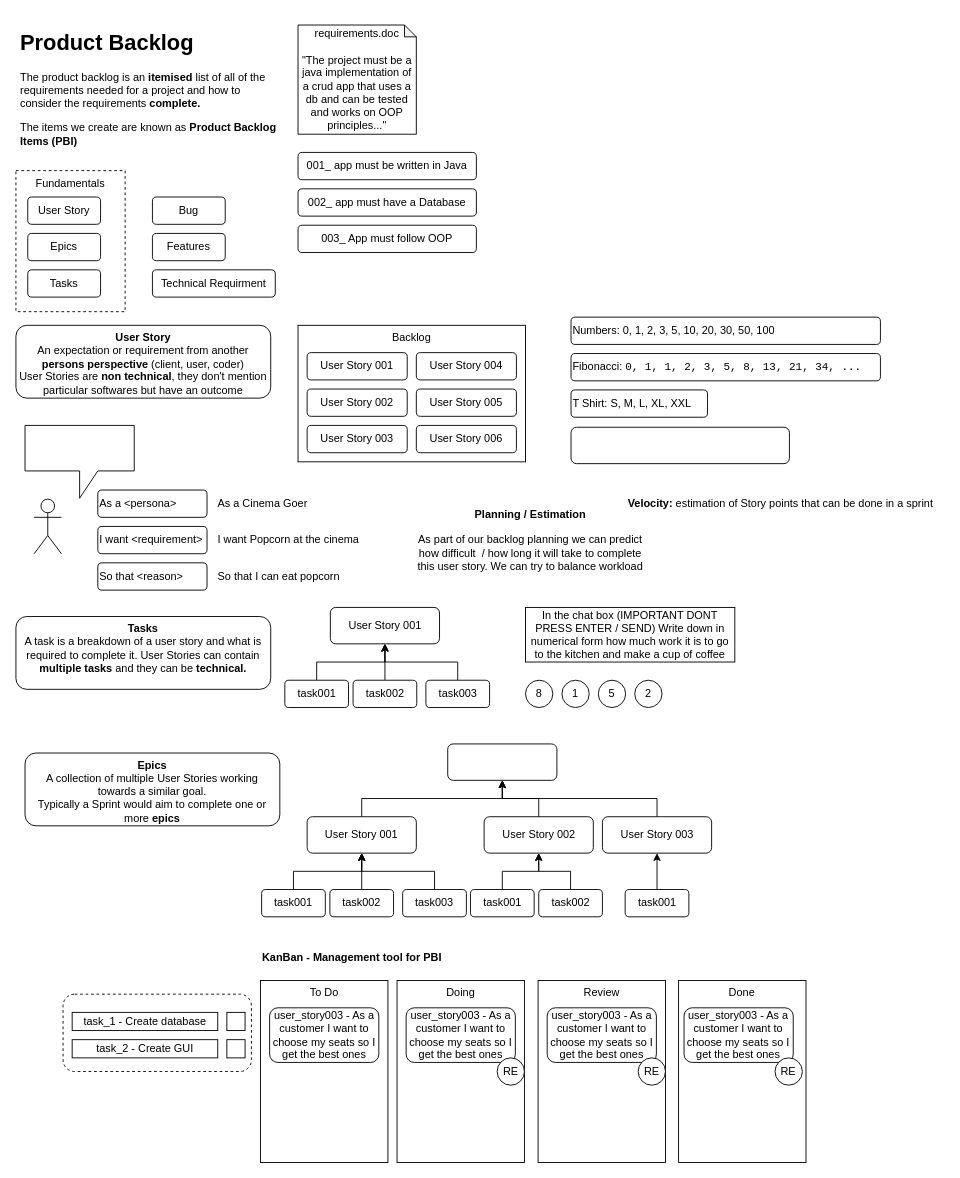
This 960x1178 diagram has some shape labels left out. Here are the shapes that lost their labels. From the top down, the centre of each, then its label:
[79,461]: I want to buy popcorn when I go to the cinema
[679,445]: How much work is this task? (IS NOT HOURS, BUT JUST A RELATIVE NUMBER)
[47,526]: User
[502,761]: Epic - Frontend
